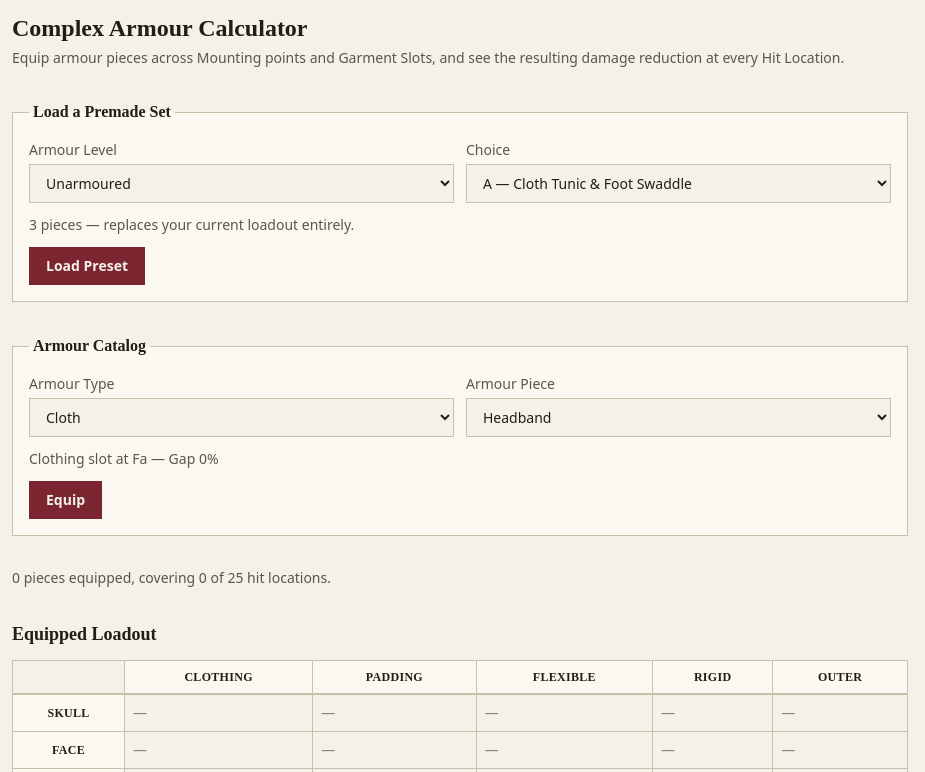
Scenario: ComplexArmourCalculator › updates hit location coverage after equipping an item from the picker
The width and height of the screenshot is (925, 772).
Step 1. Select "Hood" in the dropdown labelled "Armour Piece" → (678,418), box [466,398,891,437]
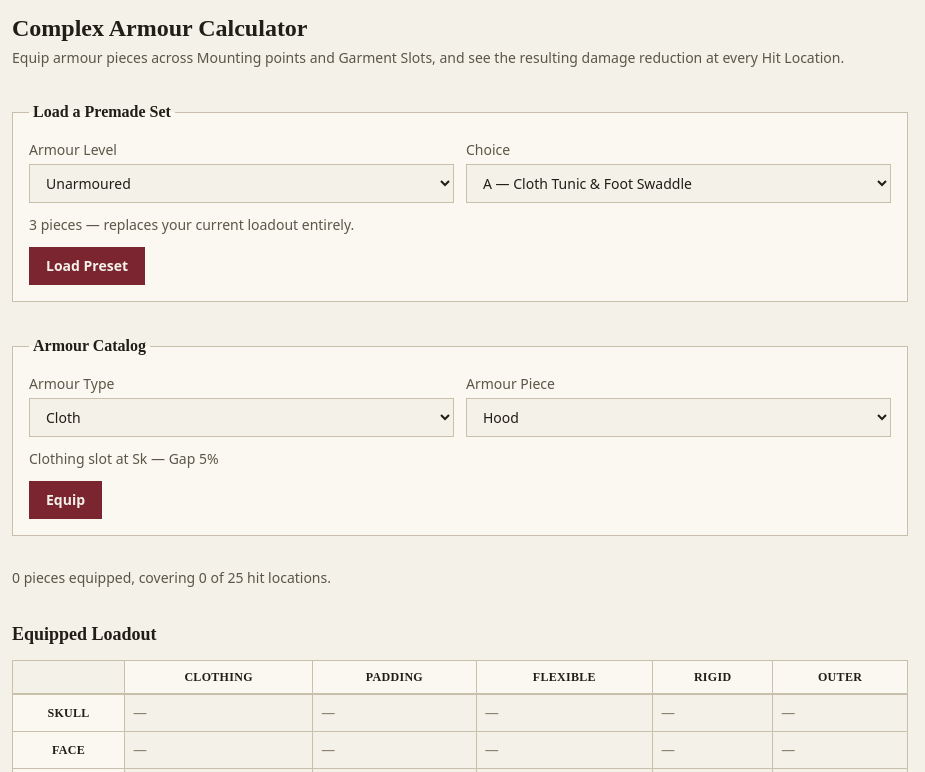
Step 2. Click the button "Equip" → (66,500), box [29,481,102,519]
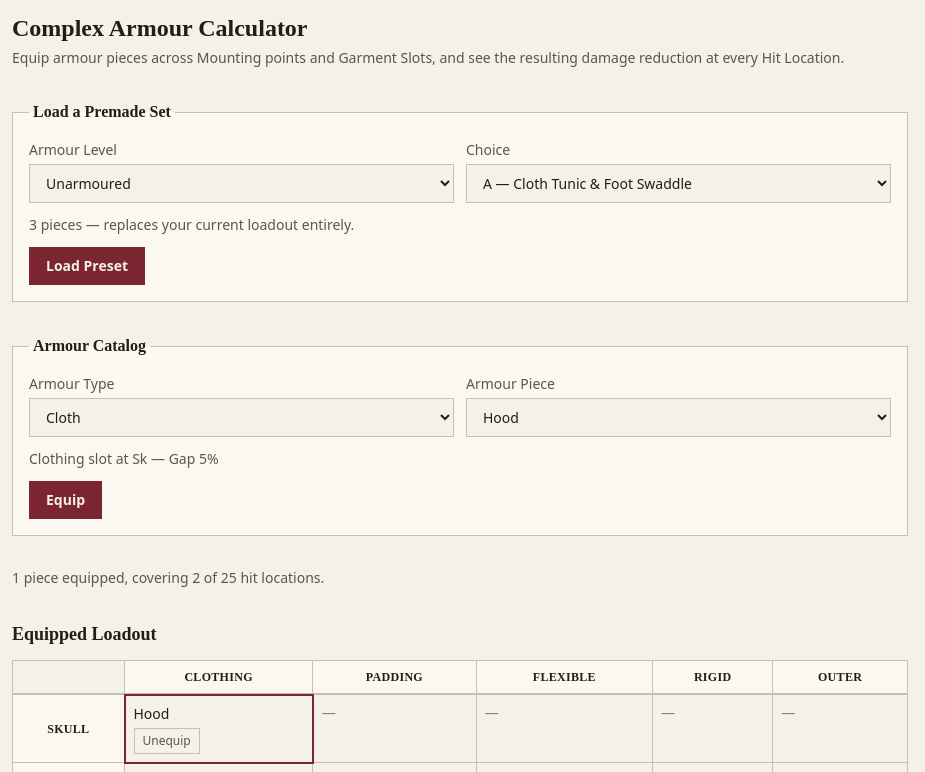
Now the message reads "1 piece equipped, covering 2 of 25 hit locations.", box [12,568,324,587]
